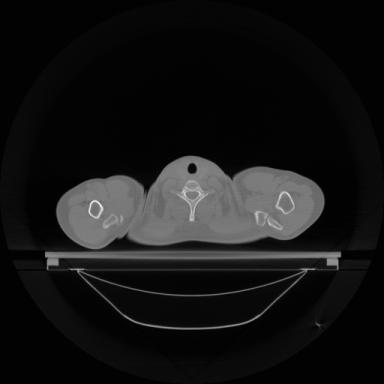body: (128, 156, 266, 246), (233, 167, 325, 240), (57, 176, 144, 249)
cord: (170, 180, 215, 221)
